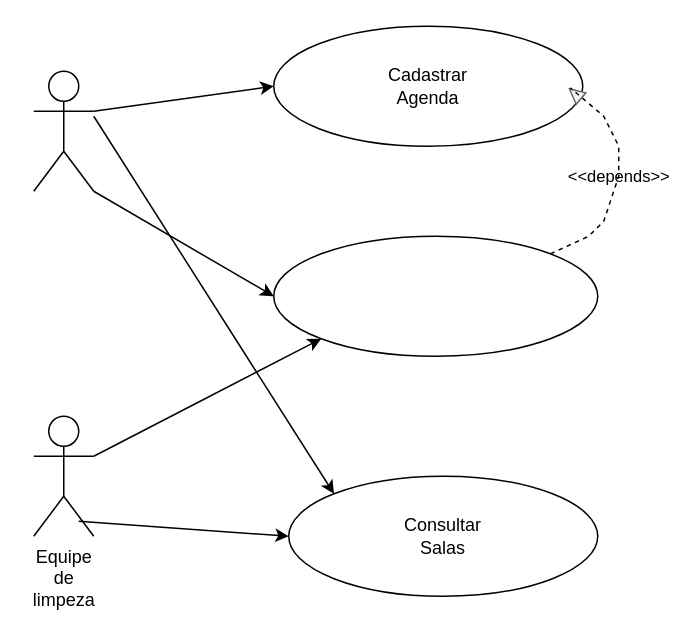
This 696x638 diagram has some shape labels left out. Here are the shapes that lost their labels. From the top down, the centre of each, then its label:
the point at 63,130: Professor
the point at 435,295: Visualizar Agenda
